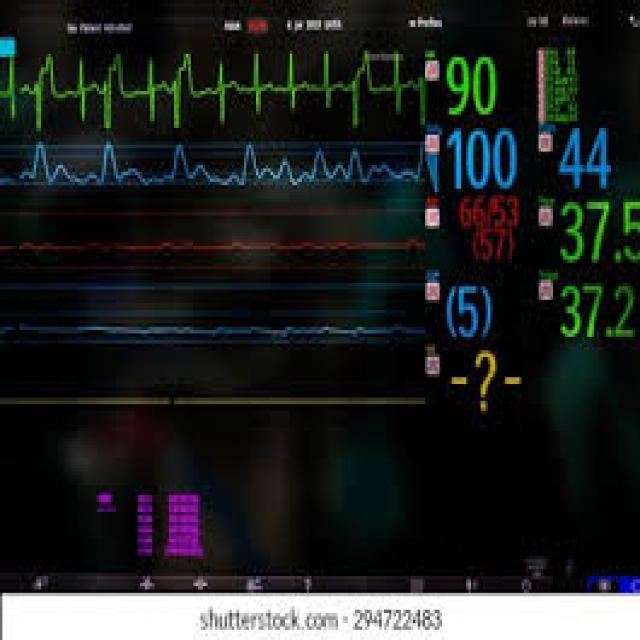cardiac_monitor: (12, 21, 632, 605)
